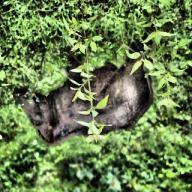boar: (13, 37, 154, 148)
